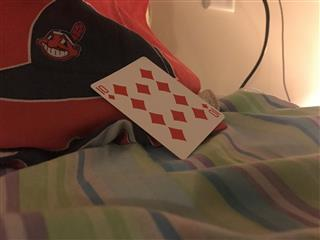TenOfDiamonds: (88, 54, 225, 160)
